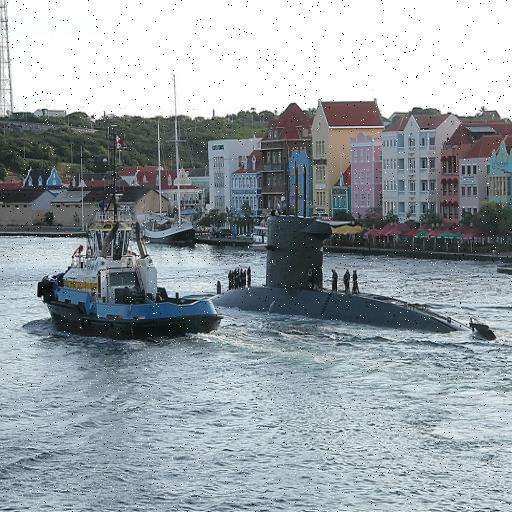submarine: (214, 160, 497, 336)
